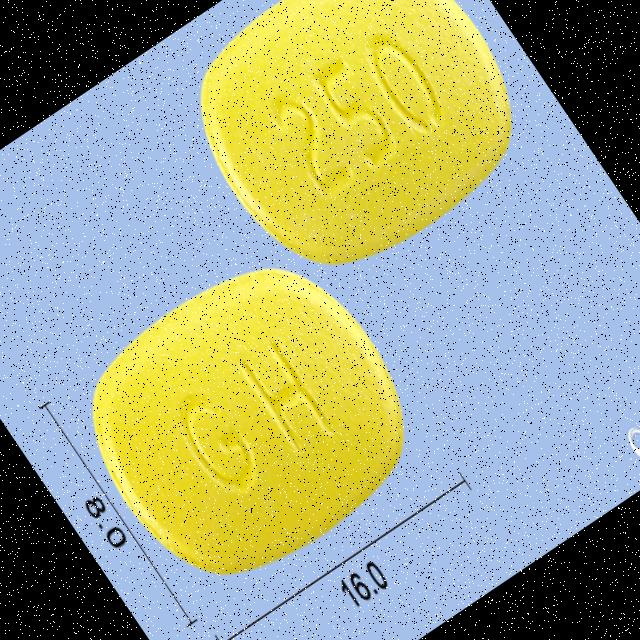Clana: (44, 218, 454, 624), (155, 0, 559, 311)
